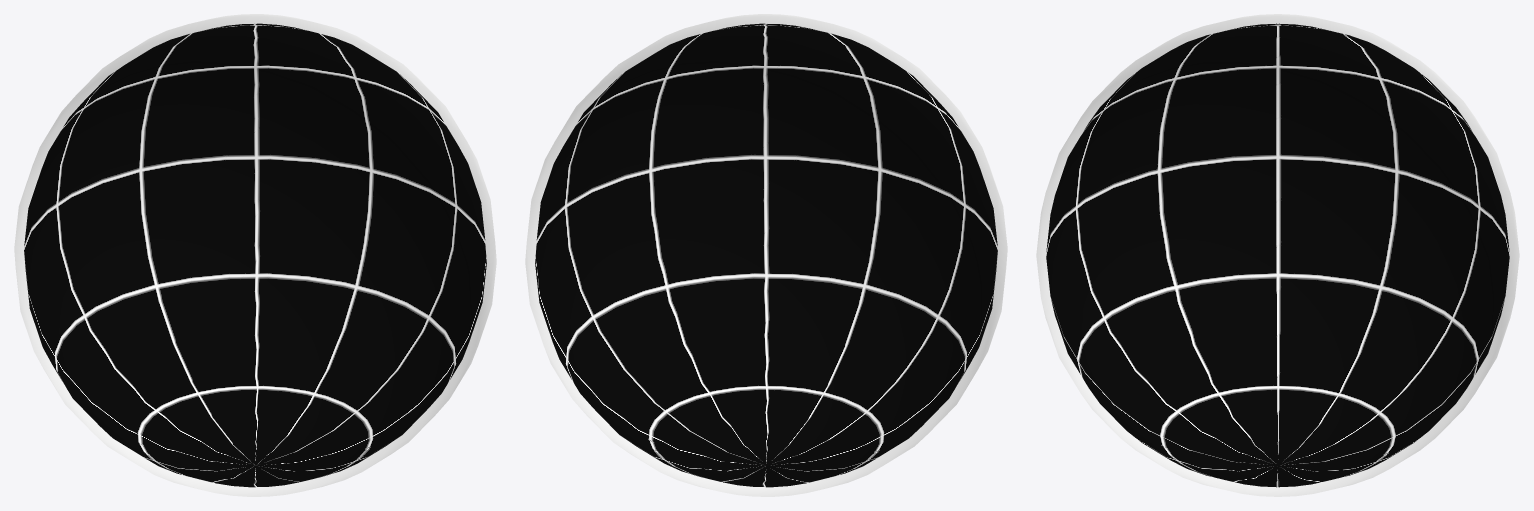
File: skyball.glb
3 views of the same model, side by side, from view 1: azimuth 30°, elevation 25°; view 2: azimuth 150°, elevation 25°; view 3: azimuth 270°, elevation 25° (orthographic).
Visible parts, largest first — view 1: Skyball; view 2: Skyball; view 3: Skyball.
Boxes of the visible parts, box(x1,y1,x2,y2) form: Skyball: box(14, 14, 496, 496); Skyball: box(525, 14, 1007, 496); Skyball: box(1036, 14, 1519, 496).
Bounding box in the file's own units: 1 × 1 × 1.
2 materials, 1 textured.
